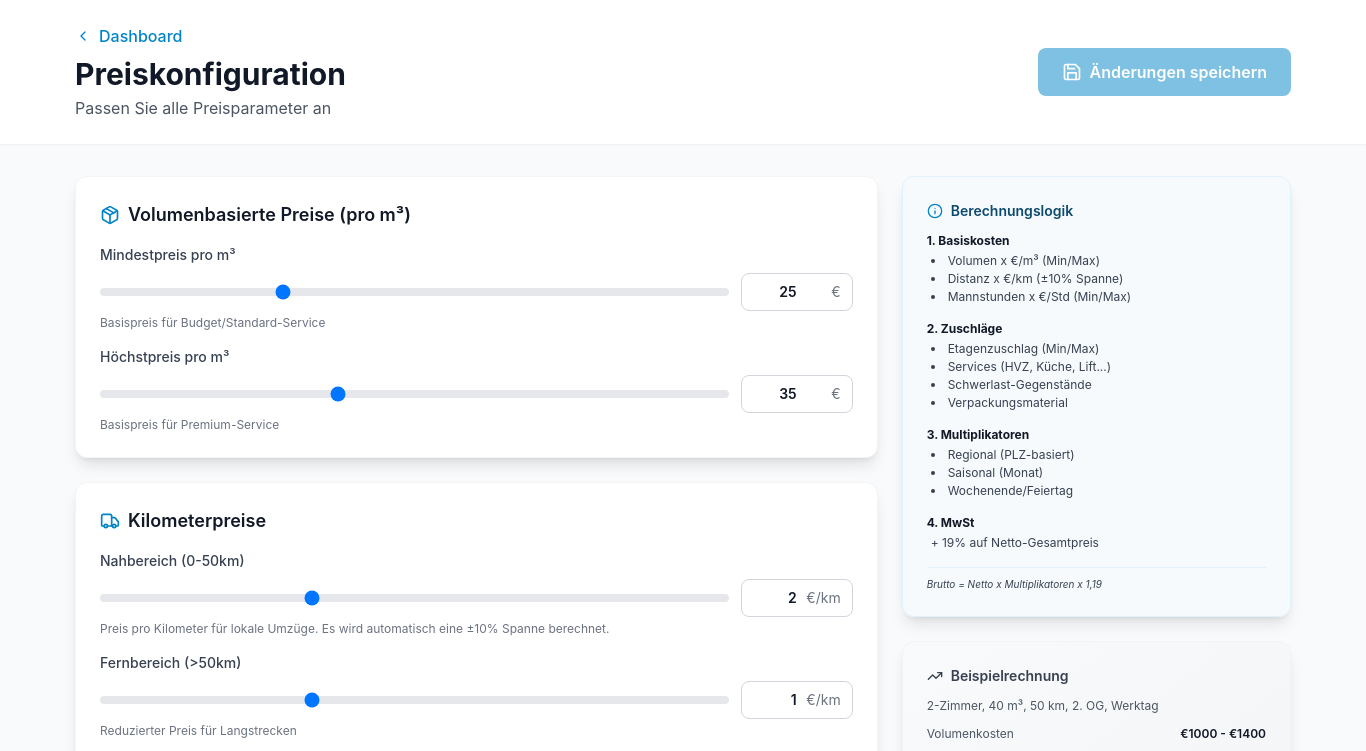
Slider and input sync › changing number input updates the slider
The image size is (1366, 751).
Expected: the slider below "Mindestpreis pro m³" holds "25", x1=100 y1=288 x2=729 y2=296
Replace the text in the 1st number field with "30". click: (797, 292)
box: x1=741 y1=273 x2=853 y2=311
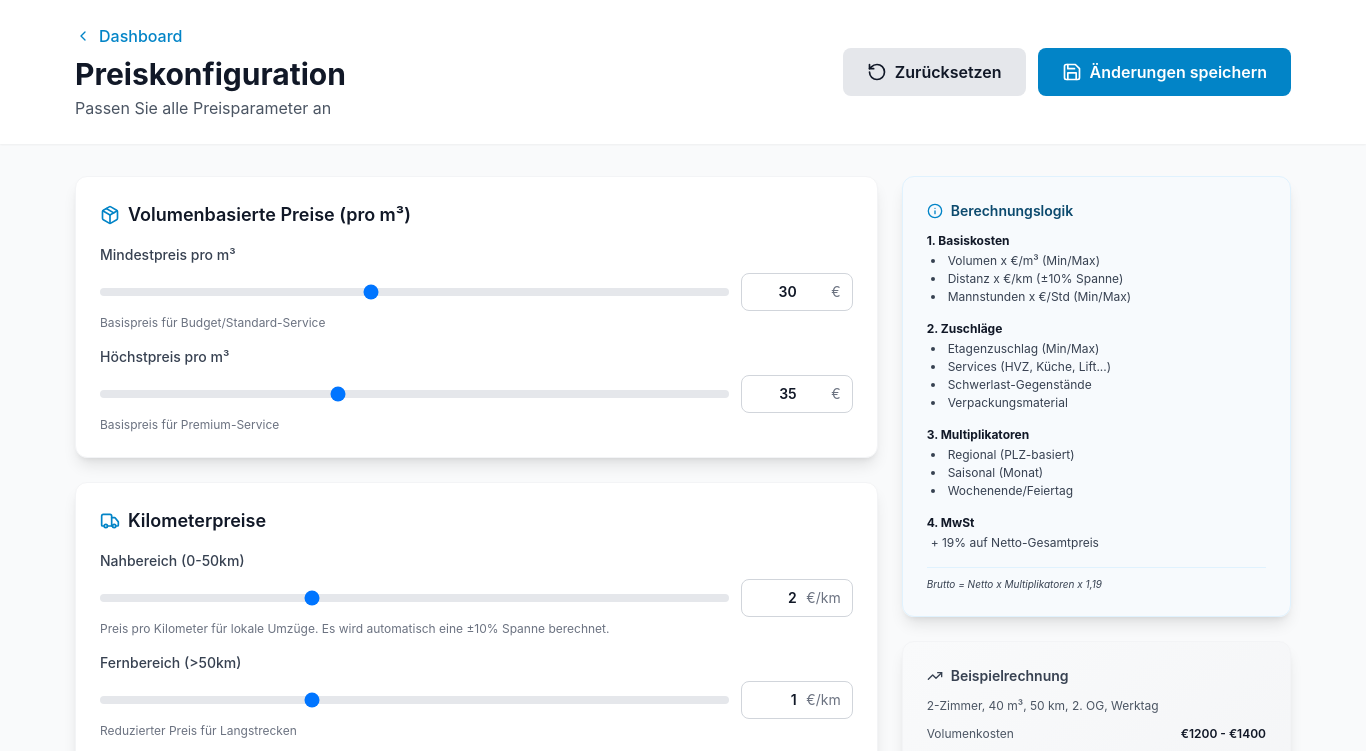
Expected: the slider below "Mindestpreis pro m³" holds "30", x1=100 y1=288 x2=729 y2=296
